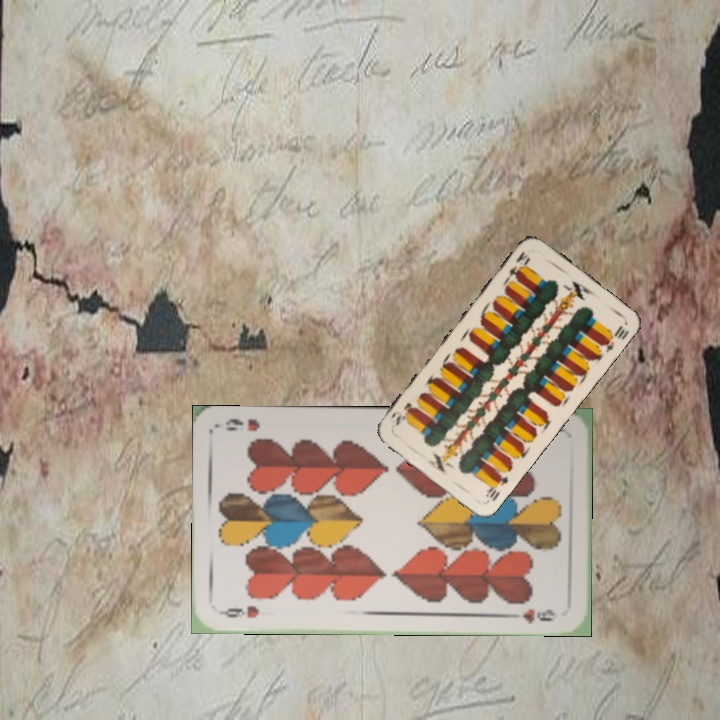E10: (503, 247, 533, 285), (481, 470, 511, 504)
H9: (216, 602, 262, 621)
